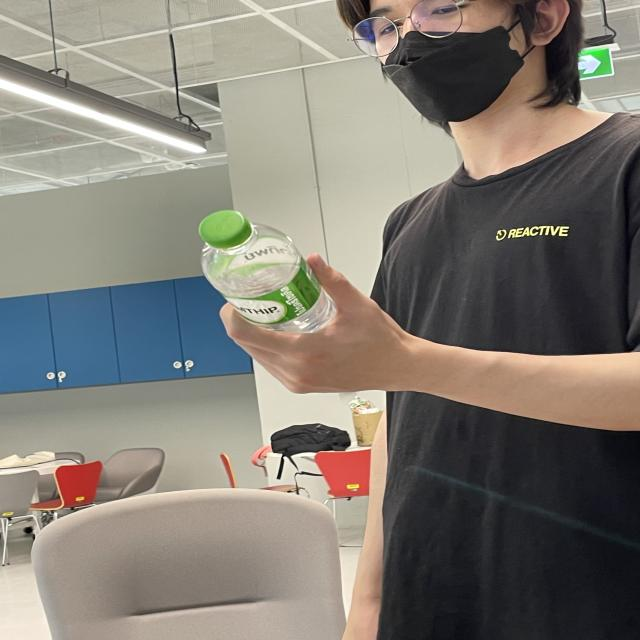bottle: (199, 210, 338, 334)
